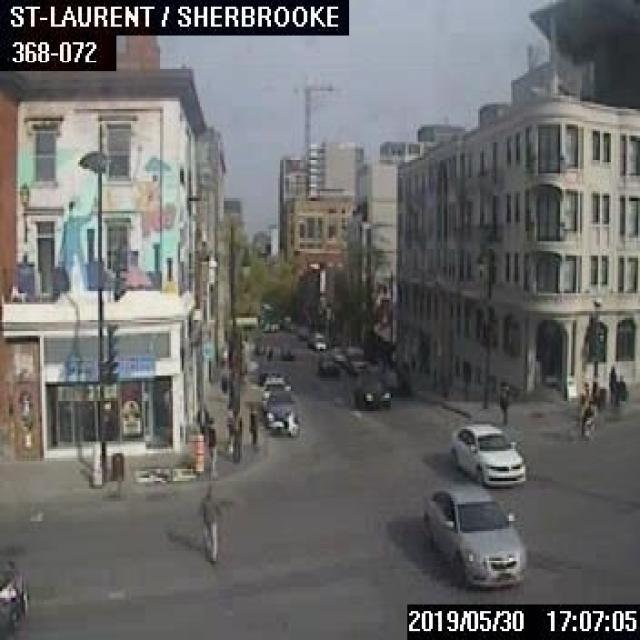construction: (189, 433, 202, 471), (89, 446, 102, 484)
pedestrian: (198, 487, 219, 562), (578, 376, 596, 436), (202, 413, 216, 478), (226, 404, 238, 460), (497, 374, 508, 424), (605, 362, 617, 406), (246, 402, 256, 440)
vehicle: (420, 482, 526, 589), (449, 421, 523, 484), (0, 546, 27, 637), (261, 389, 298, 435), (349, 373, 391, 406), (261, 374, 290, 405), (344, 344, 363, 370), (317, 351, 336, 374)
